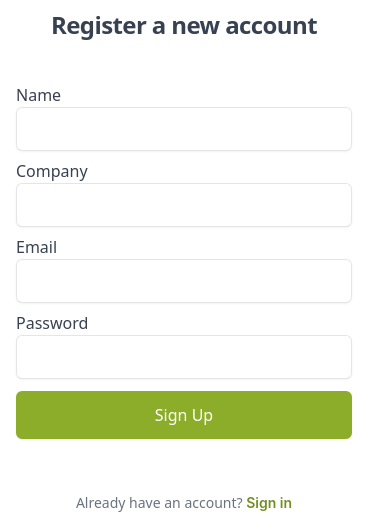
Test case: Signup Component › displays error message on signup failure with specific error message
The image size is (369, 529).
Type "John Doe" into the field labelled "Name". click: (184, 129)
box: [16,107,352,151]
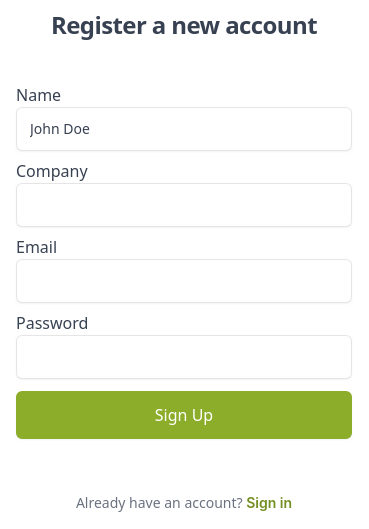
Type "johndoe" into the field labelled "Company". click: (184, 205)
box: [16,183,352,227]
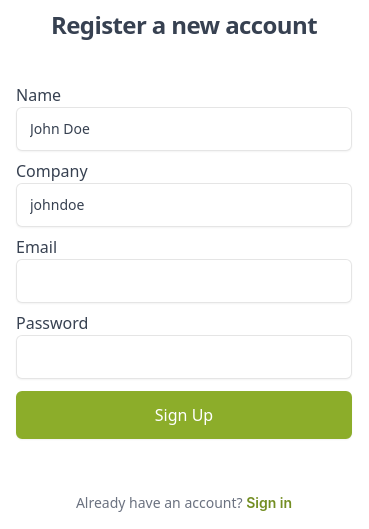
Type "john@example.com" into the field labelled "Email". click: (184, 281)
box: [16,259,352,303]
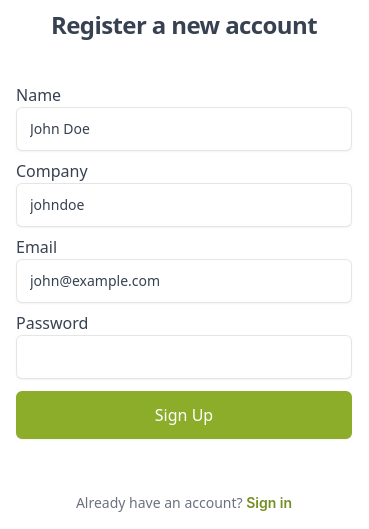
Type "password123" into the password field labelled "Password". click: (184, 357)
box: [16,335,352,379]
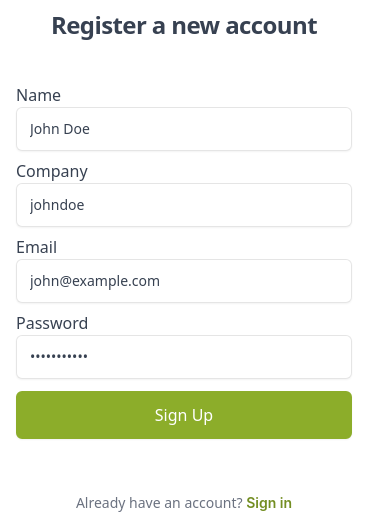
Click the button "Sign Up". click: (184, 415)
box: [16,391,352,439]
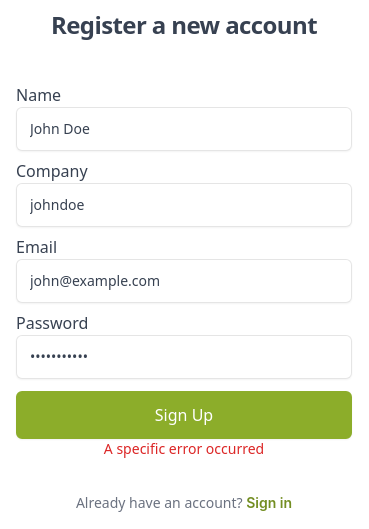
Now the text "A specific error occurred" is shown, box [104,439,264,458]
